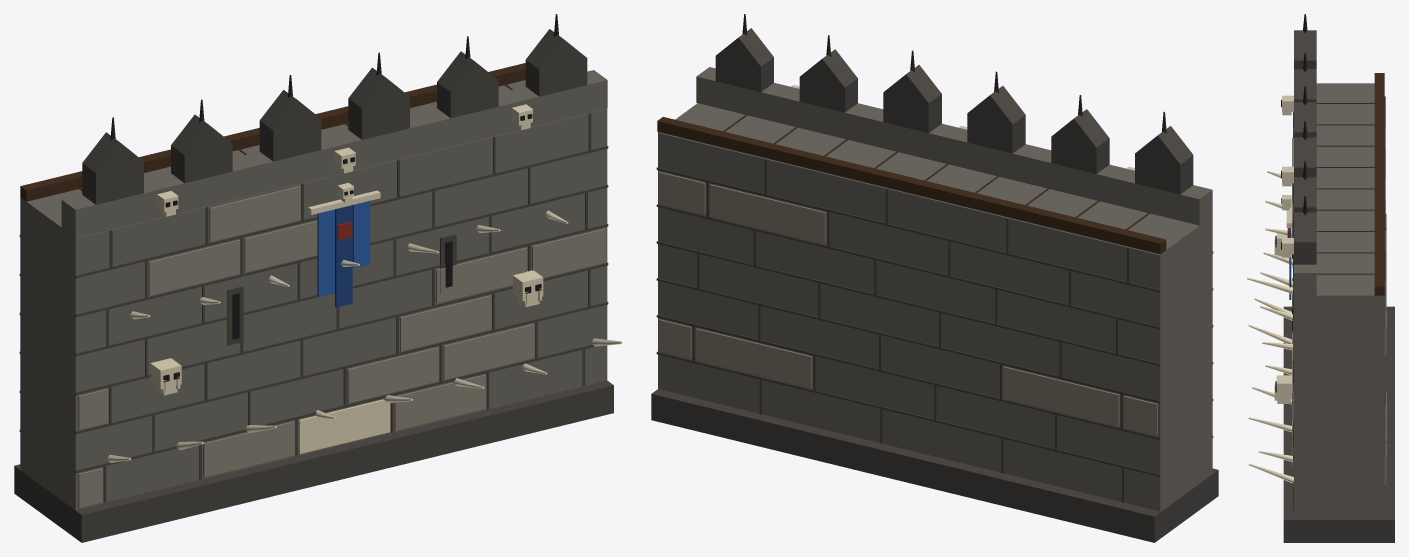
The model's file is orc-stone-wall-segment.glb.
3 renders of one model, left to right at view 1: azimuth 30°, elevation 25°; view 2: azimuth 150°, elevation 25°; view 3: azimuth 270°, elevation 25°, orthographic. The views are drawn at different scales.
Parts seen in each view (by area): view 1: orc-stone-wall-segment; view 2: orc-stone-wall-segment; view 3: orc-stone-wall-segment.
Boxes of the visible parts, box(x1,y1,x2,y2) form: orc-stone-wall-segment: box(14, 14, 622, 542); orc-stone-wall-segment: box(651, 14, 1218, 542); orc-stone-wall-segment: box(1247, 14, 1394, 542).
Bounding box in the file's own units: 10 × 7.27 × 2.93.
Materials: 1 (1 with a texture image).
